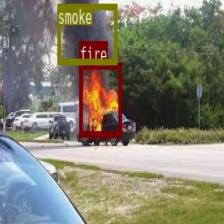fire: (79, 62, 121, 136)
smoke: (57, 3, 117, 64)
